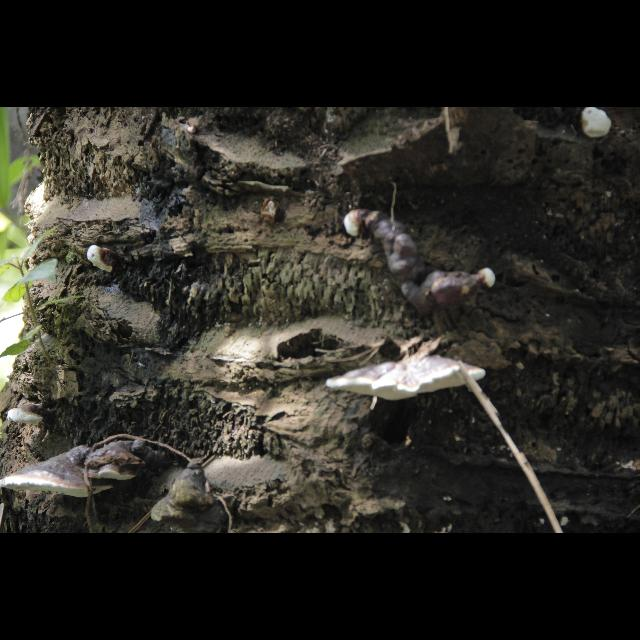ganoderma: (372, 210, 479, 316), (327, 355, 487, 403), (2, 447, 115, 500), (87, 440, 166, 482), (9, 406, 55, 427)
primordium: (582, 108, 612, 138), (87, 246, 117, 274), (344, 209, 370, 238), (478, 268, 498, 290)
